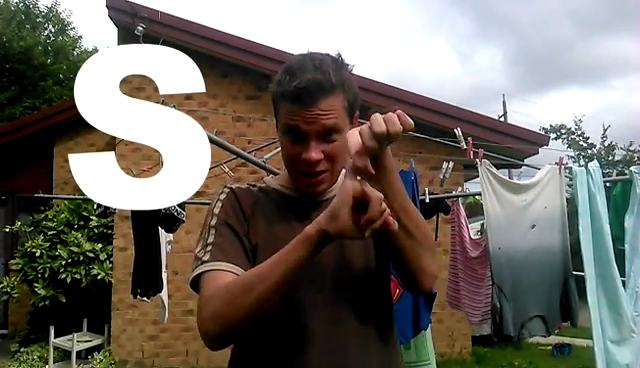S: (328, 108, 416, 239)
